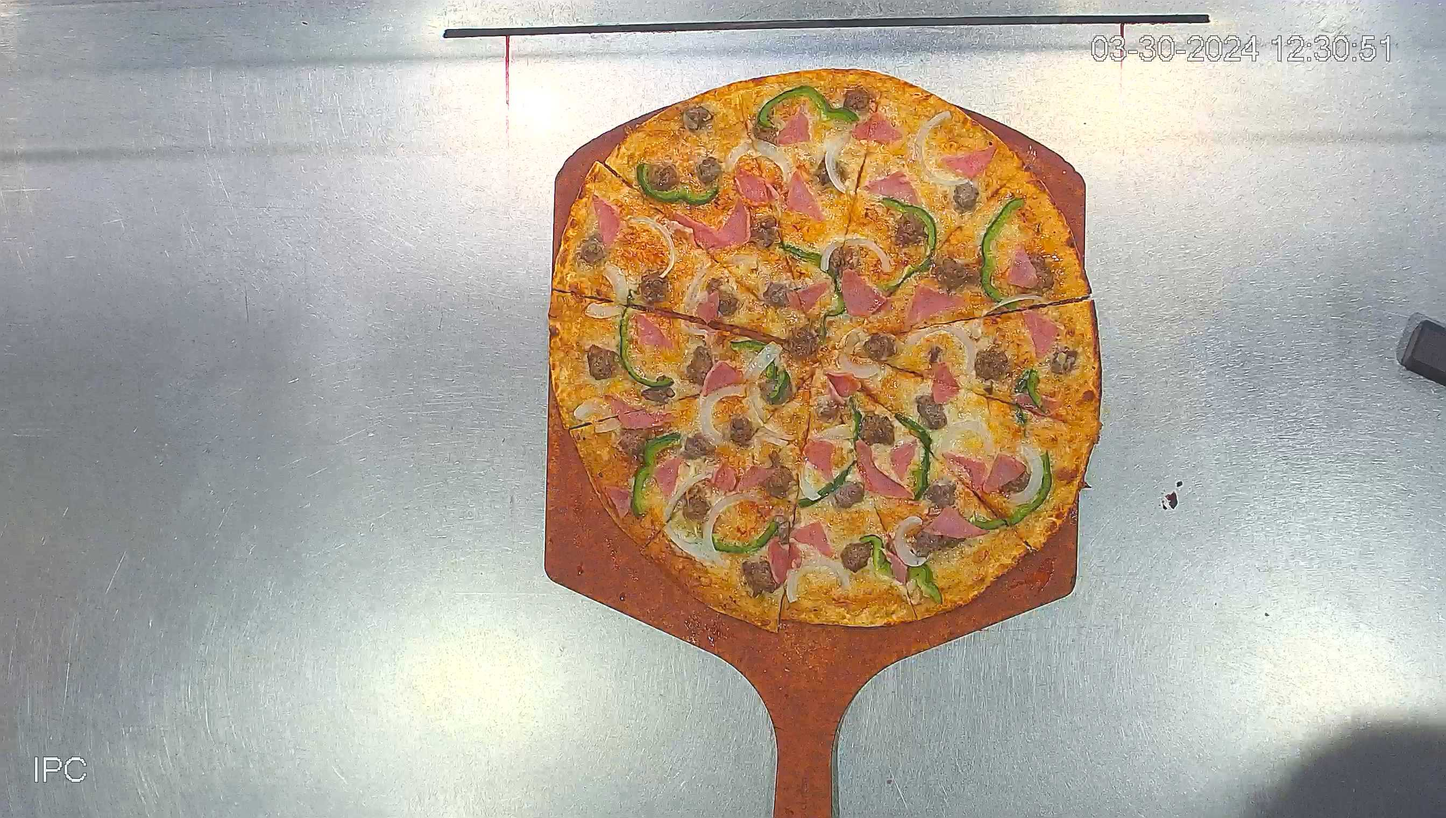hawaiian: (545, 66, 1099, 635)
